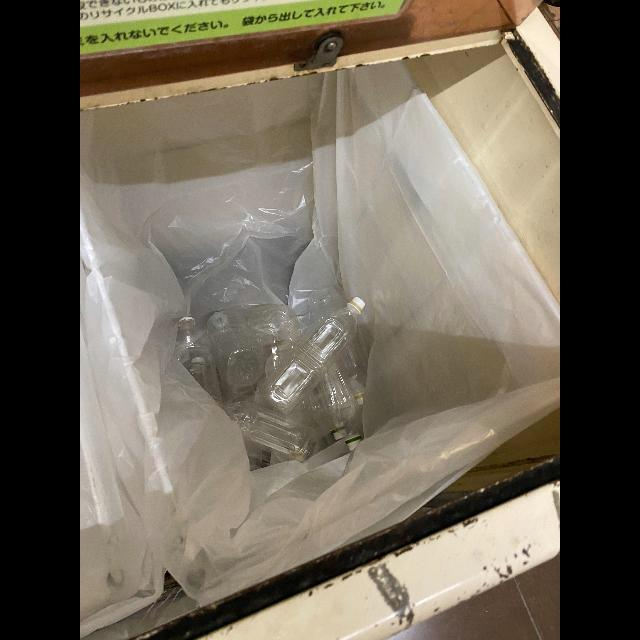plastic_bottle: (259, 296, 366, 418), (223, 402, 316, 464), (309, 356, 361, 451), (247, 304, 302, 388), (174, 316, 223, 409), (206, 309, 264, 387)
